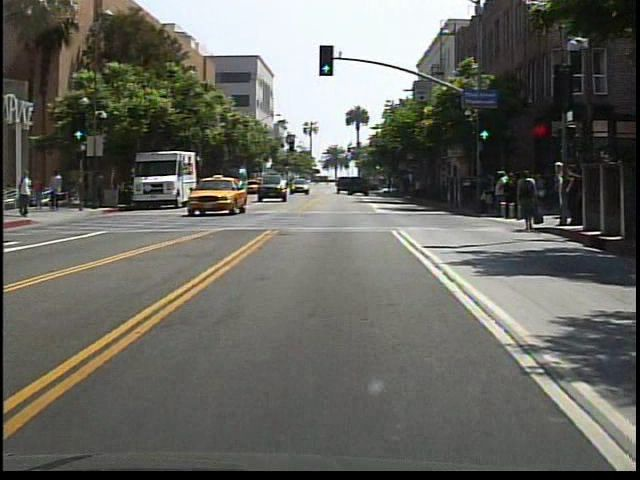person: (514, 168, 542, 233), (19, 168, 38, 220), (49, 167, 68, 214), (35, 171, 51, 213), (94, 170, 111, 209), (82, 170, 95, 207)
